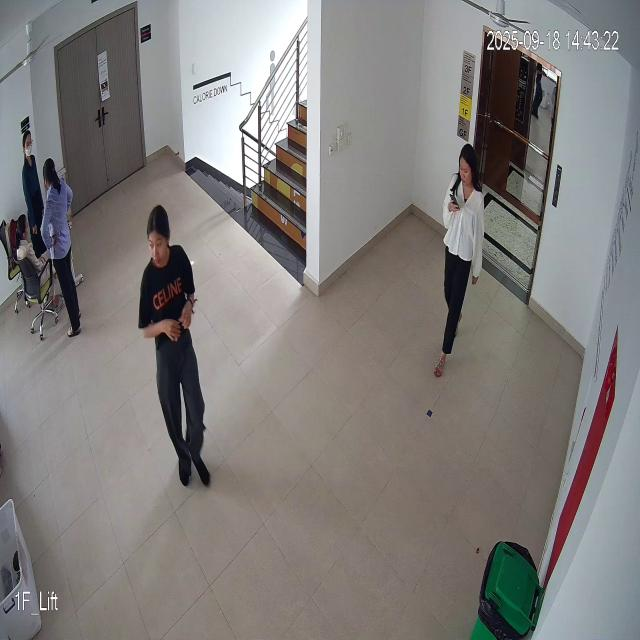face: (143, 205, 175, 274), (456, 138, 476, 196)
